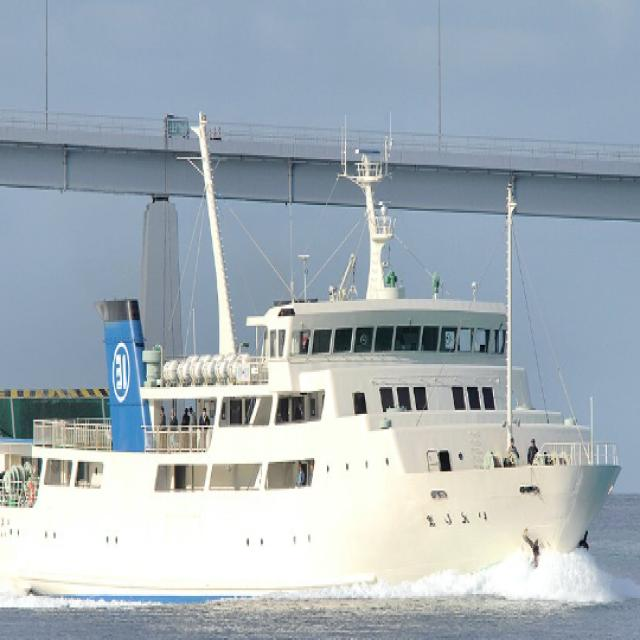passenger ship: (0, 141, 617, 588)
